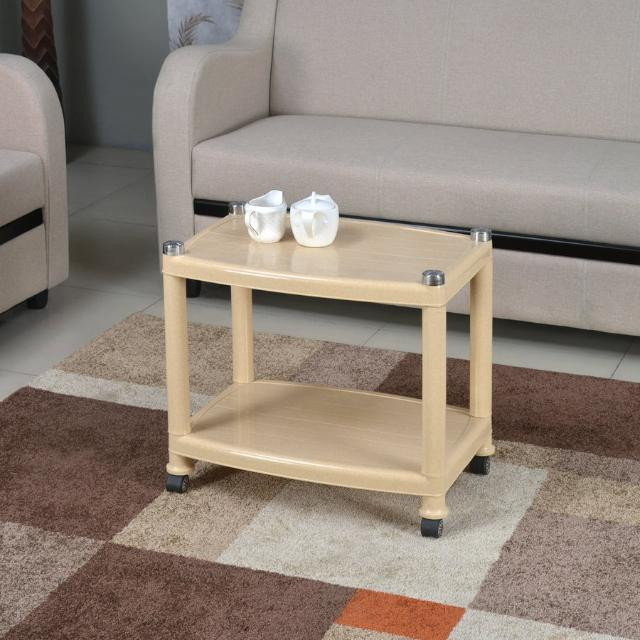obstacle: (135, 167, 573, 553)
